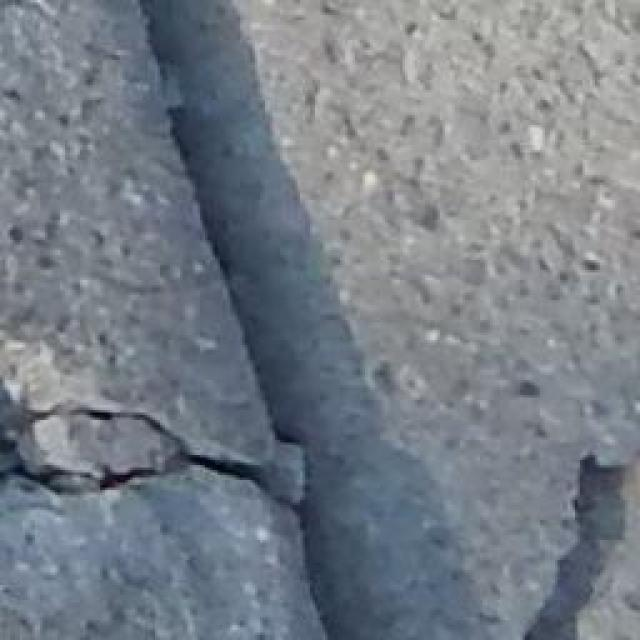concrete-crack: (2, 1, 640, 640)
